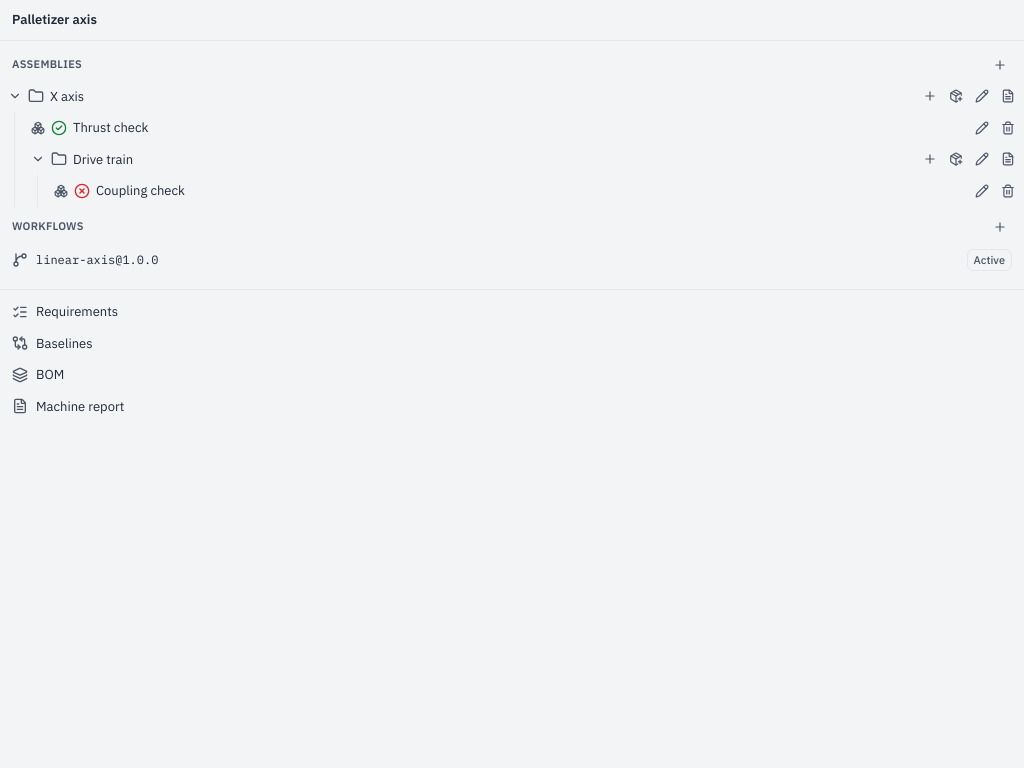
Test case: MachineNavigator › actually opens the assembly actions' dialogs on click, not just renders the buttons
The width and height of the screenshot is (1024, 768).
Click the button named "Add sub-assembly to X axis". click: x=930, y=96
box: [918,84,942,108]
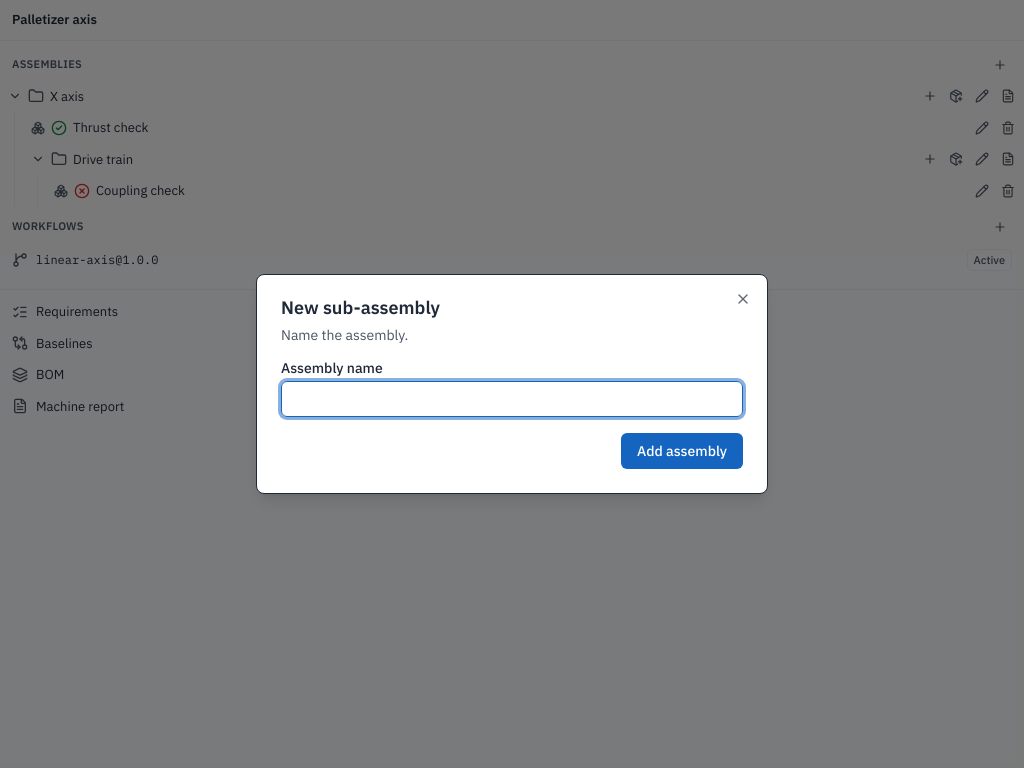
Result: the heading "New sub-assembly" is shown at [281,296,440,319]
Press Escape
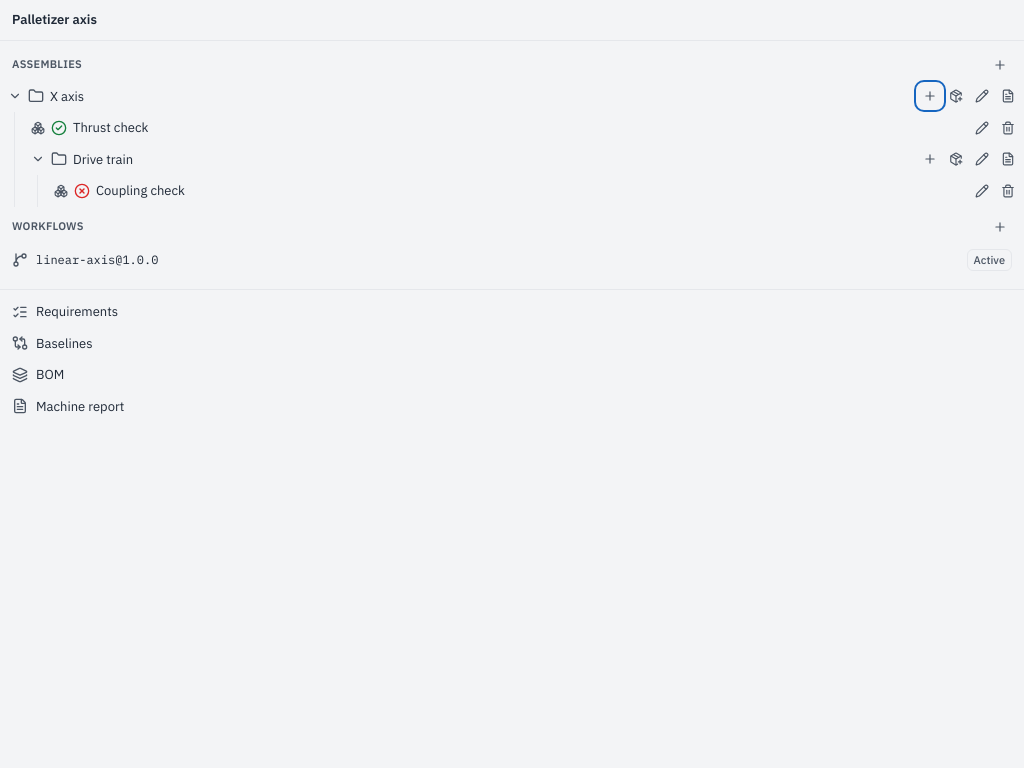
Click the button named "Add module to X axis". click: x=956, y=96
box: [944,84,968,108]
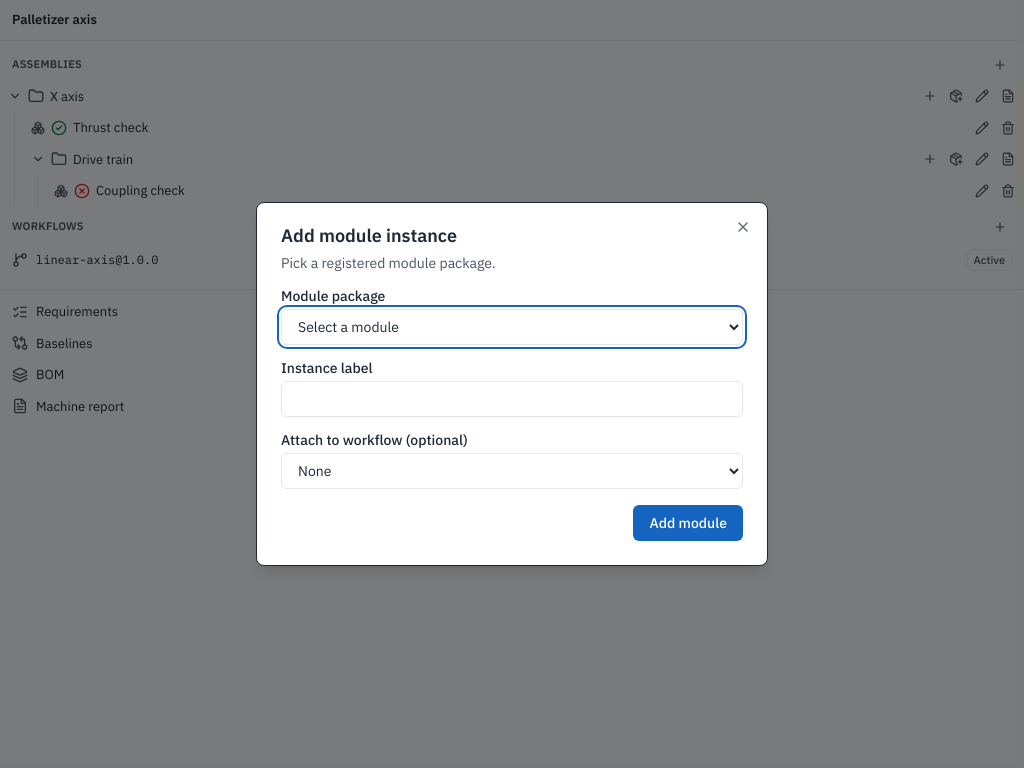
Result: the heading "Add module instance" is shown at [281,224,457,247]
Press Escape
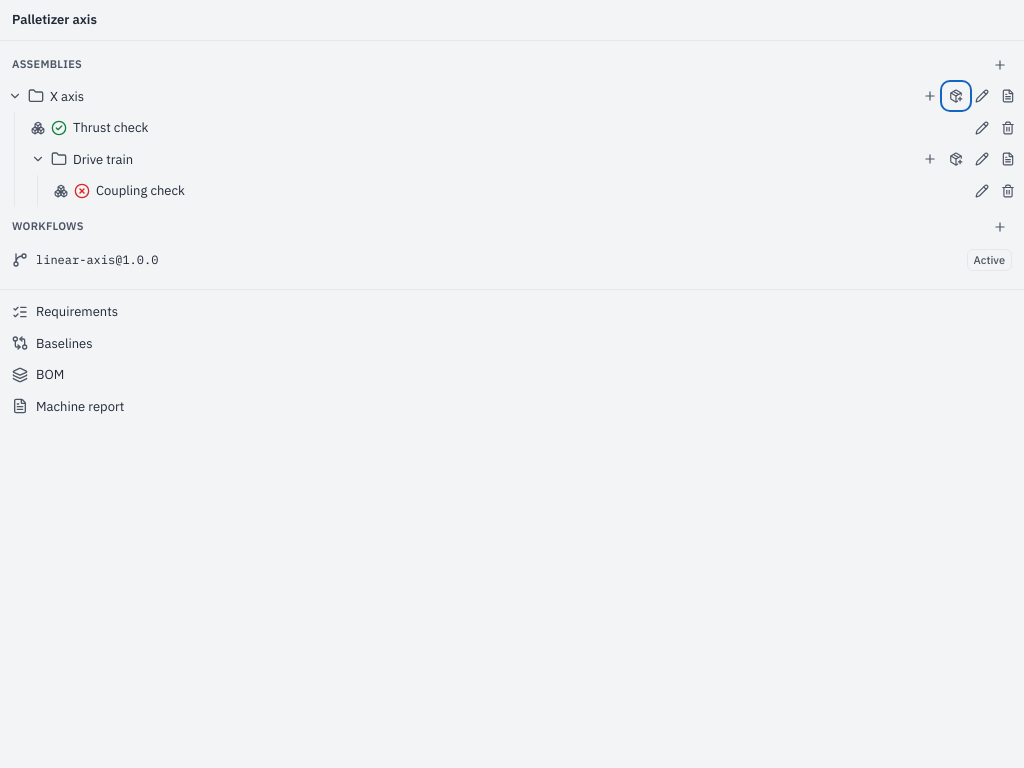
Click the button named "Rename X axis". click: x=982, y=96
box: [970,84,994,108]
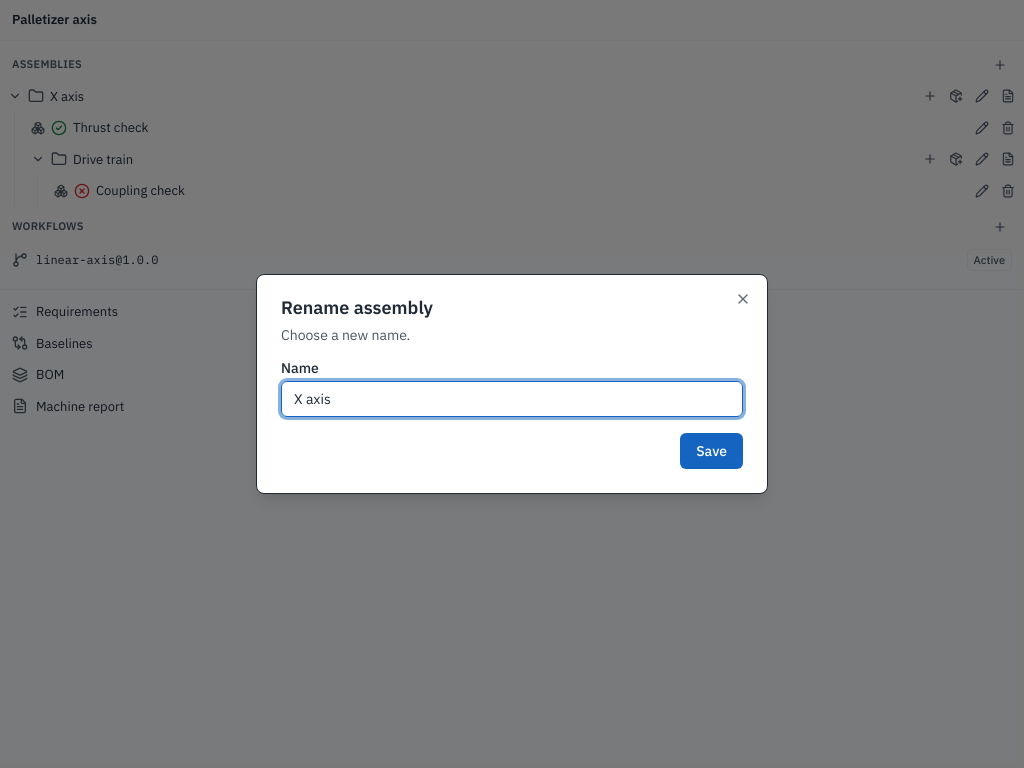
Result: the heading "Rename assembly" is shown at [281,296,433,319]
